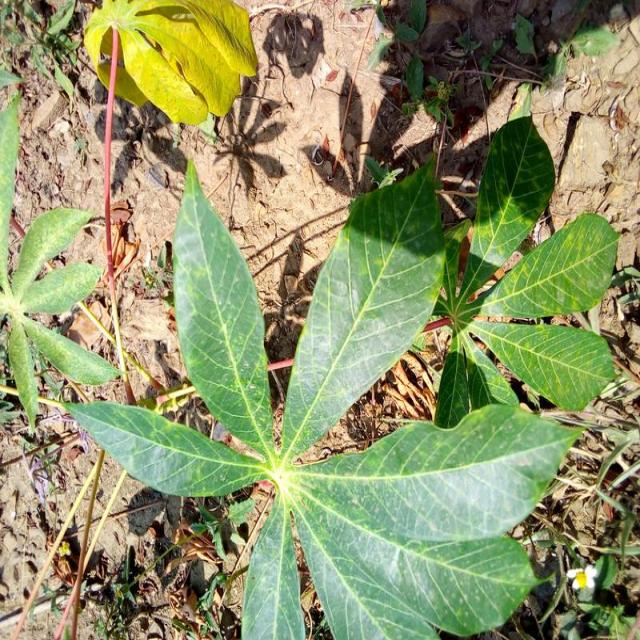cassava leaf: (56, 145, 585, 638), (288, 402, 583, 638), (278, 152, 446, 463), (170, 157, 276, 460), (82, 0, 258, 127), (455, 113, 555, 308), (475, 211, 621, 319)
